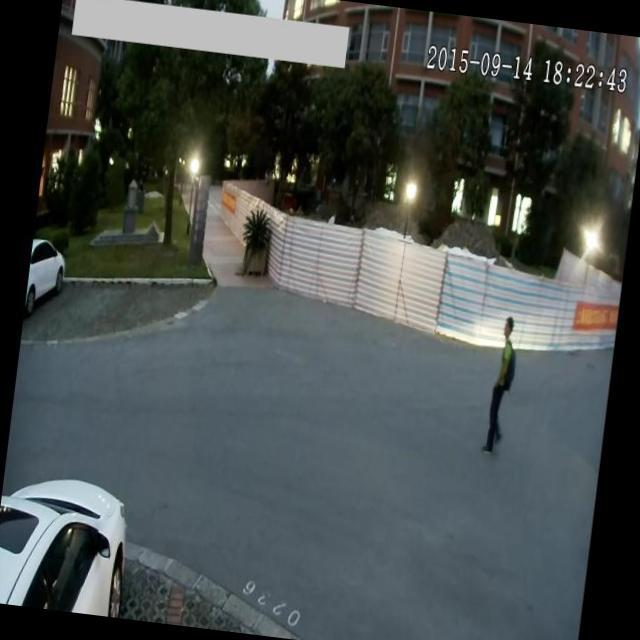person: (480, 304, 523, 456)
